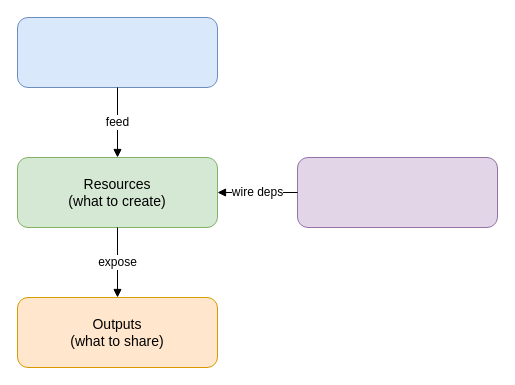
Image size: 515x385. Some labels were removed from this diagram. Here are the shapes that lost their labels. From the top down, the centre of each, then its label:
At pixel 117 52: "Parameters (inputs)".
At pixel 397 192: "Intrinsic functions !Ref !GetAtt !Sub".
